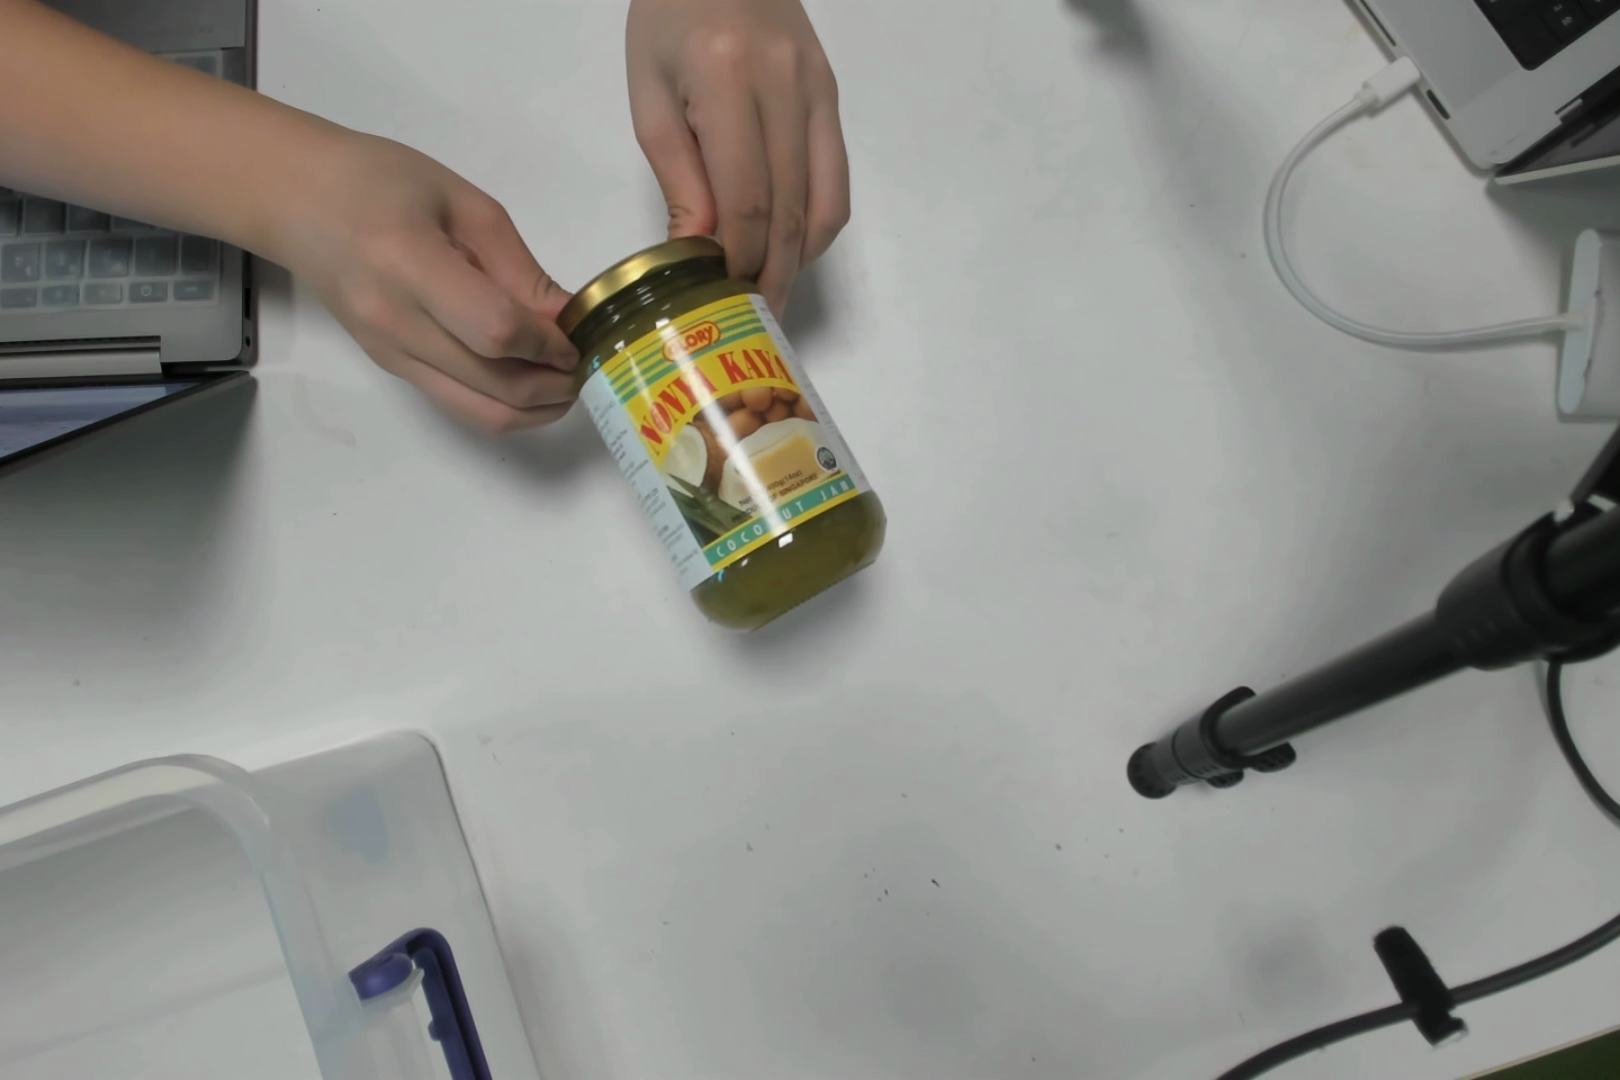Kaya_400-499g_Halal_NonHealthy: (614, 272, 867, 585)
